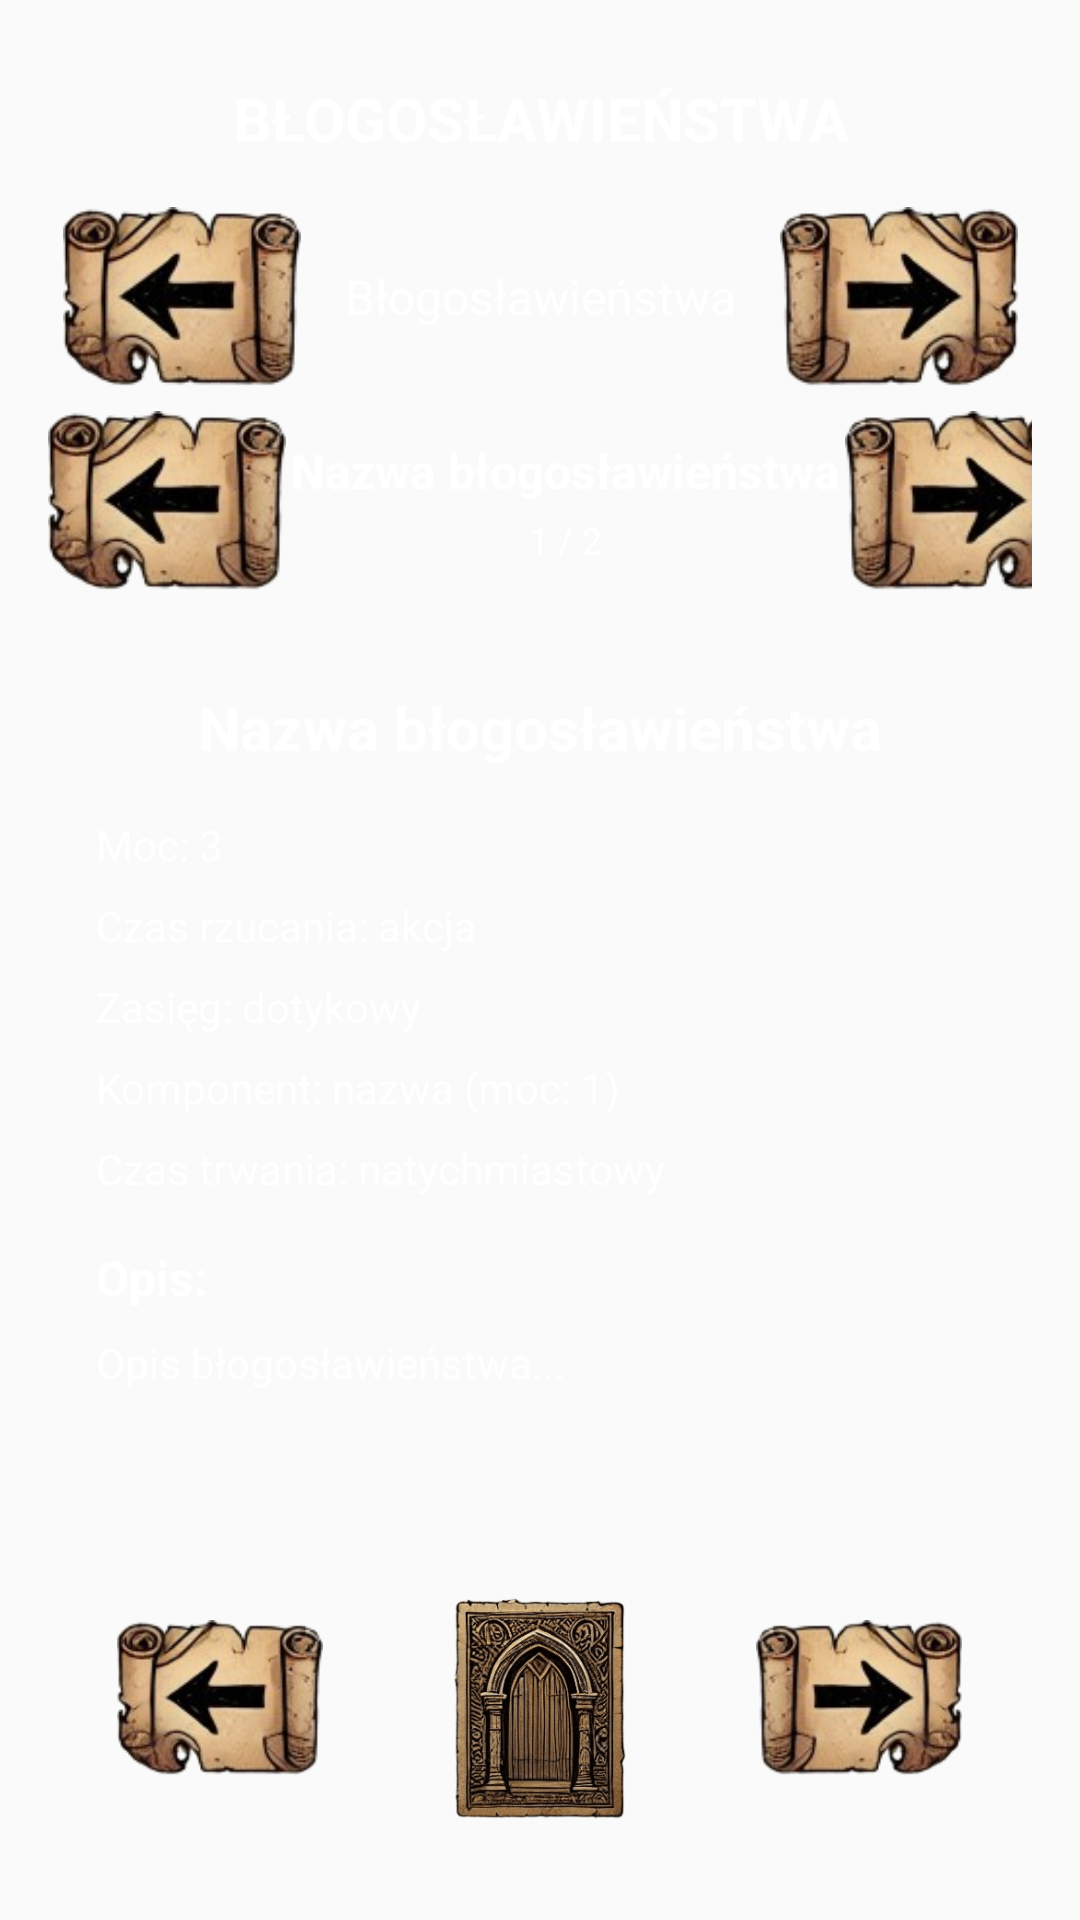

Where icons sit on this 1080×1920 app screen, as (x1, y1, x2, y2):
back: (63, 207, 301, 385), (48, 411, 286, 589), (117, 1620, 323, 1775)
exit: (454, 1599, 626, 1818)
